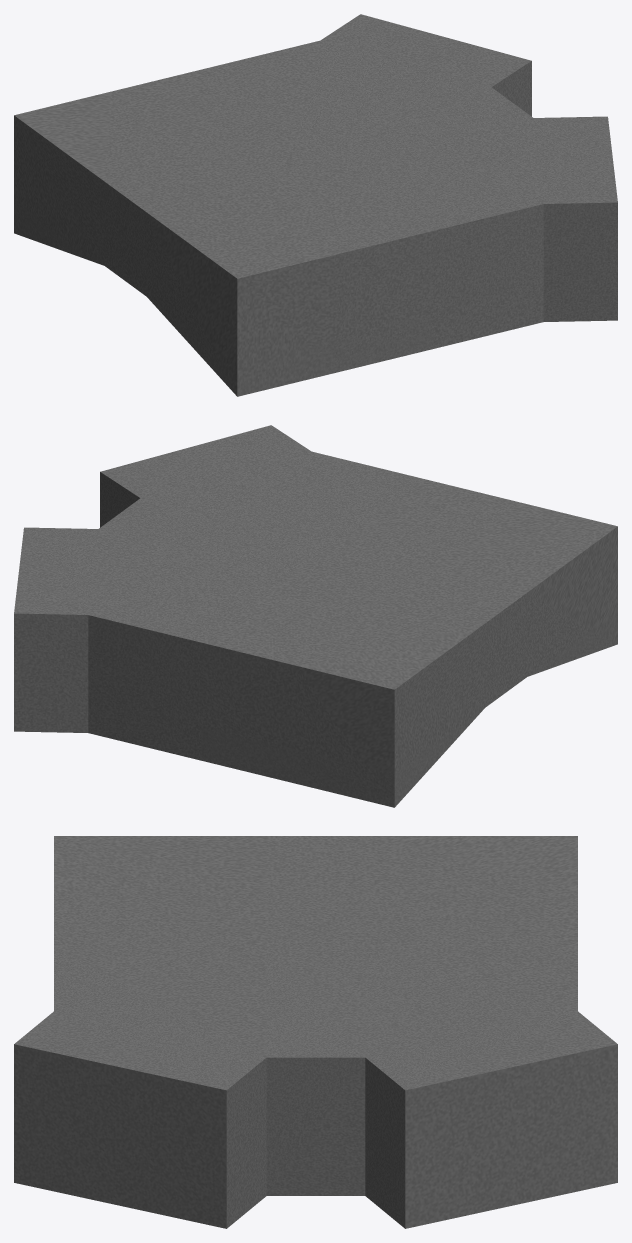
Rendered from fixeduvfacility.fbx.
3 renders of one model, top to bottom at view 1: azimuth 30°, elevation 25°; view 2: azimuth 150°, elevation 25°; view 3: azimuth 270°, elevation 25°, orthographic. The views are drawn at different scales.
Visible parts, largest first — view 1: Interior; view 2: Interior; view 3: Interior.
Boxes of the visible parts, x1,y1,x2,y2 form: Interior: (14,14,617,396); Interior: (14,425,617,807); Interior: (14,836,617,1228).
Bounding box in the file's own units: 2756 × 700 × 2765.
